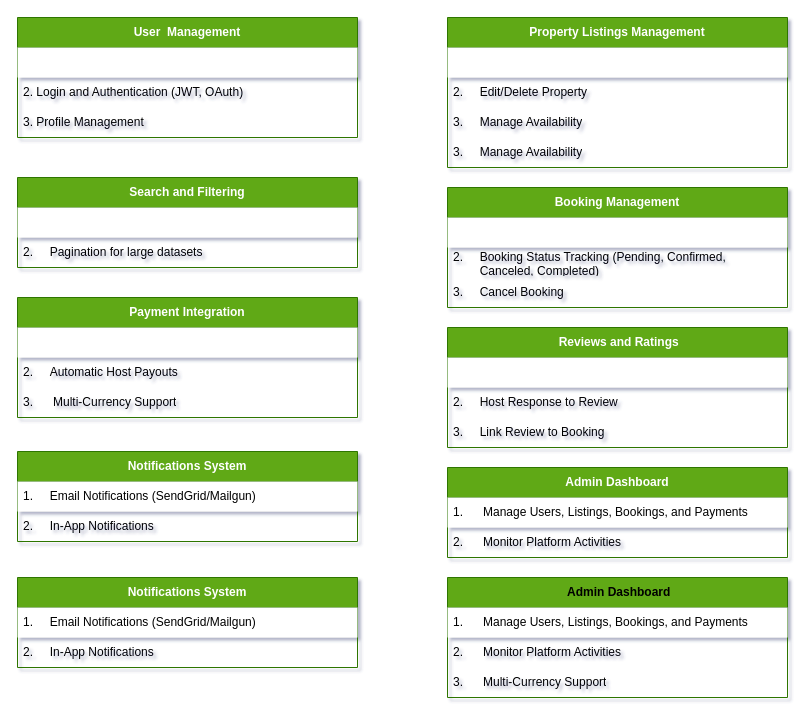
The diagram is 811 pixels wide and 721 high, and some of its shapes have lost their labels. The centre of each missing label's shape, as x and y in pixels:
1. Add Review and Rating: (x=617, y=372)
1. Create Booking (Date Validation): (x=617, y=232)
1. Property Listing: (x=617, y=62)
1. Search by Location, Price, Guests, Amenities: (x=187, y=222)
1. Secure Payments (Stripe/PayPal): (x=187, y=342)
1. User Registration (Guest or Host): (x=187, y=62)
